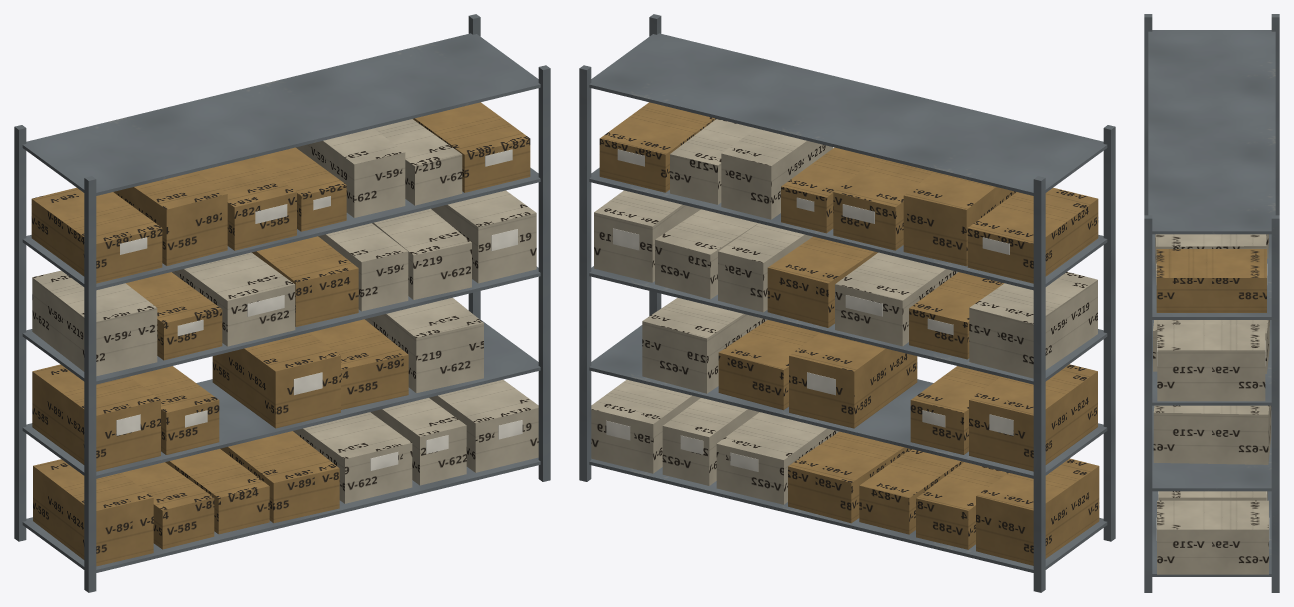
Rendered from store_shelf.glb.
The picture shows the model from 3 angles, left to right: view 1: azimuth 30°, elevation 25°; view 2: azimuth 150°, elevation 25°; view 3: azimuth 270°, elevation 25°; orthographic projection. The views are drawn at different scales.
Visible parts, largest first — view 1: store_shelf; view 2: store_shelf; view 3: store_shelf.
Boxes of the visible parts, x1=… form: store_shelf: x1=14, y1=14, x2=550, y2=592; store_shelf: x1=579, y1=14, x2=1115, y2=592; store_shelf: x1=1144, y1=14, x2=1279, y2=592.
Bounding box in the file's own units: 3.05 × 2.6 × 0.85.
Materials: 4 (4 with a texture image).
